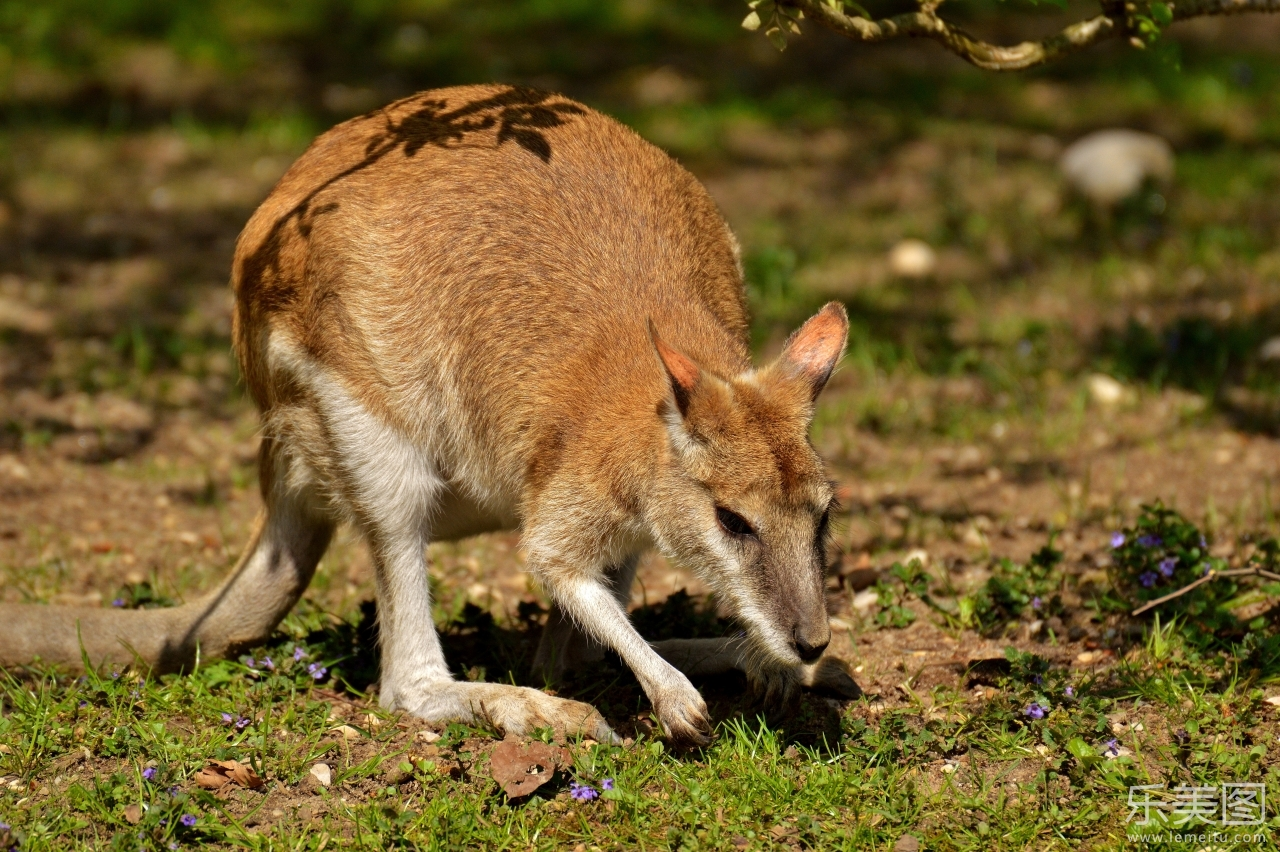kangaroo: (1, 77, 850, 764)
